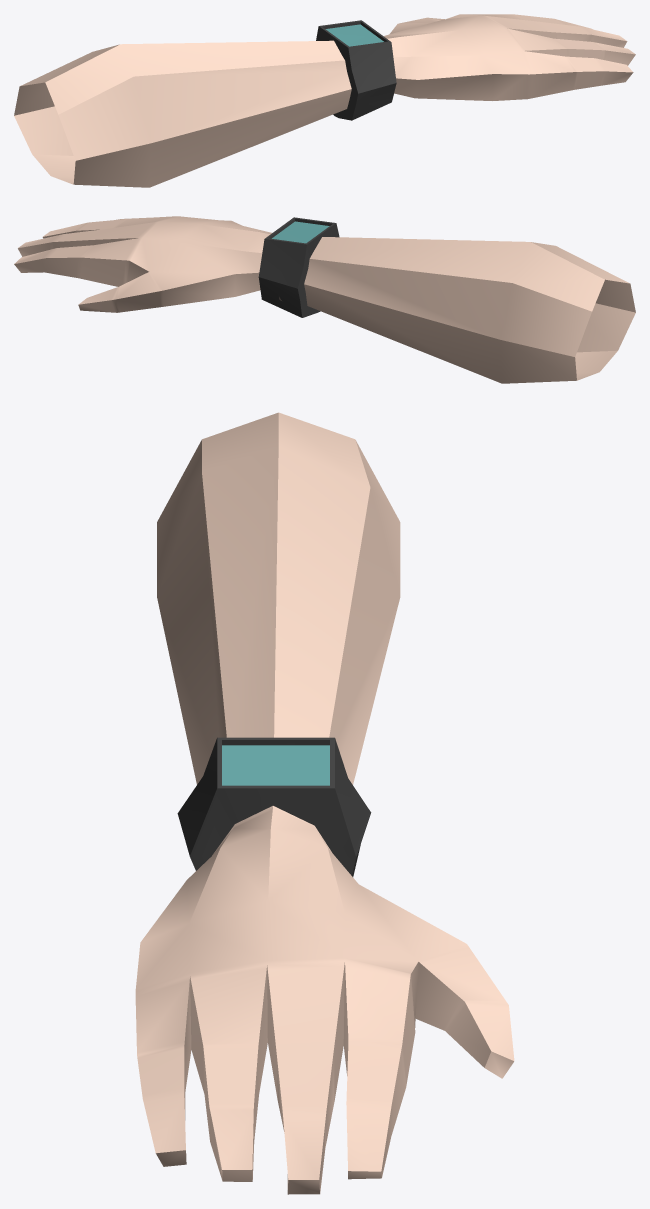
The model's file is ManoDerecha.fbx.
3 views of the same model, one above another, from view 1: azimuth 30°, elevation 25°; view 2: azimuth 150°, elevation 25°; view 3: azimuth 270°, elevation 25° (orthographic). The views are drawn at different scales.
Parts seen in each view (by area): view 1: ManoDerecha; view 2: ManoDerecha; view 3: ManoDerecha.
Part boxes in pixels (left/top/right/bottom): ManoDerecha: left=14, top=14, right=635, bottom=187; ManoDerecha: left=14, top=216, right=635, bottom=383; ManoDerecha: left=135, top=412, right=514, bottom=1194.
Bounding box in the file's own units: 2100 × 463 × 590.
1 material, 1 textured.
